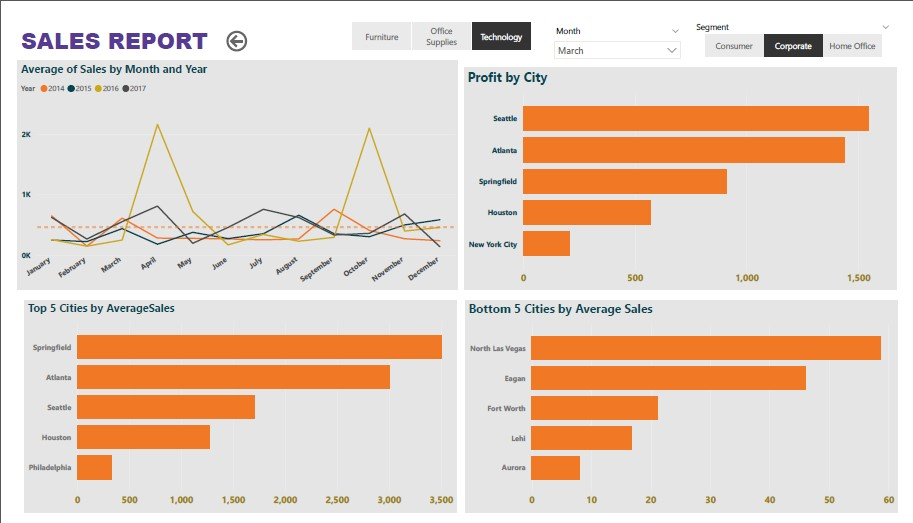

The dashboard page shown, as its layout file describes it:
{"tool":"powerbi","page":{"name":"SALES","canvas":[1280,720],"ordinal":0},"visuals":[{"type":"lineChart","fields":{"Y":["Avg(Orders.Sales)"],"Category":["Orders.Order Date.Variation.Date Hierarchy.Month"],"Series":["Orders.Order Date.Variation.Date Hierarchy.Year"]},"box":[0,63.2,639.5,333.4],"z":0},{"type":"clusteredBarChart","fields":{"Y":["Sum(Orders.Profit)"],"Category":["Orders.City"]},"box":[649.6,73.3,629.5,323.4],"z":1000},{"type":"slicer","fields":{"Values":["Orders.Segment"]},"box":[974.4,0,306.1,63.2],"z":2000},{"type":"slicer","fields":{"Values":["Orders.Order Date.Variation.Date Hierarchy.Month"]},"box":[770.3,5.7,204.1,57.5],"z":3000},{"type":"clusteredBarChart","title":"Top 5 Cities by AverageSales","fields":{"Y":["Avg(Orders.Sales)"],"Category":["Orders.City"]},"box":[10.1,411,629.5,309],"z":4000},{"type":"clusteredBarChart","title":"Bottom 5 Cities by Average Sales","fields":{"Y":["Sum(Orders.Sales)"],"Category":["Orders.City"]},"box":[651,411,629.5,309],"z":4001},{"type":"slicer","fields":{"Values":["Orders.Category"]},"box":[461.3,0,309,48.9],"z":4002},{"type":"textbox","box":[0,5.7,298.9,57.5],"z":4003},{"type":"actionButton","box":[298.9,14.4,100.6,40.2],"z":4004}]}

Visuals, with their boxes in screenshot pixels (x1, y1, x2, y2), scaled from the page's 1280x720 canvas onto the 913x523 screenshot:
lineChart - Avg(Orders.Sales) x Orders.Order Date.Variation.Date Hierarchy.Month: 0/46/456/288
clusteredBarChart - Sum(Orders.Profit) x Orders.City: 463/53/912/288
slicer - Orders.Segment: 695/0/912/46
slicer - Orders.Order Date.Variation.Date Hierarchy.Month: 549/4/695/46
"Top 5 Cities by AverageSales" clusteredBarChart: 7/299/456/522
"Bottom 5 Cities by Average Sales" clusteredBarChart: 464/299/912/522
slicer - Orders.Category: 329/0/549/36
textbox: 0/4/213/46
actionButton: 213/10/285/40
